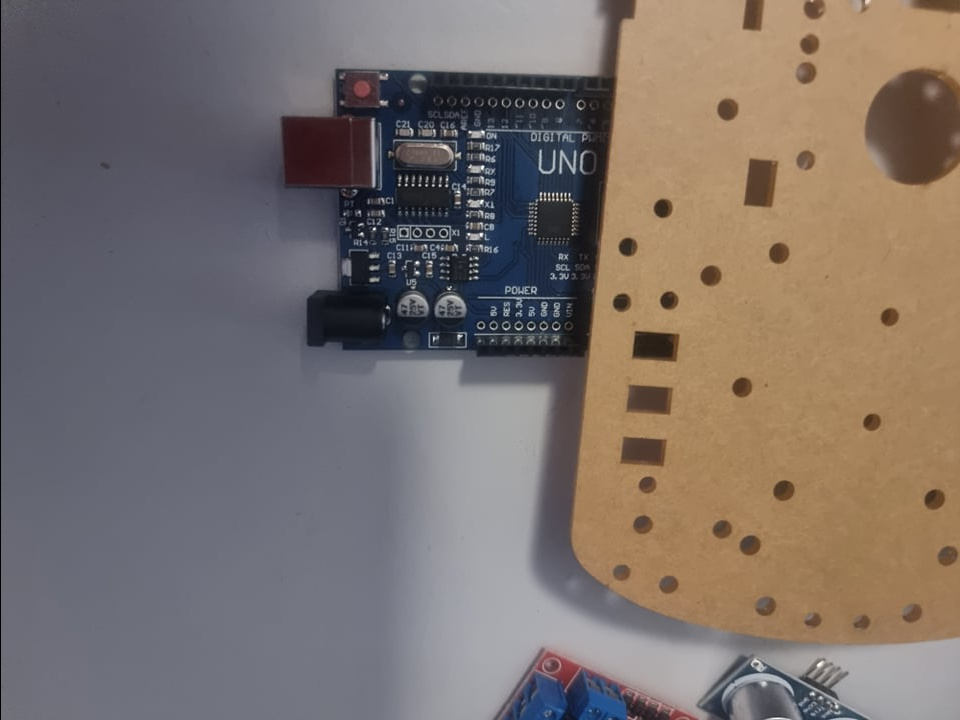UNO R3: (271, 67, 606, 382)
